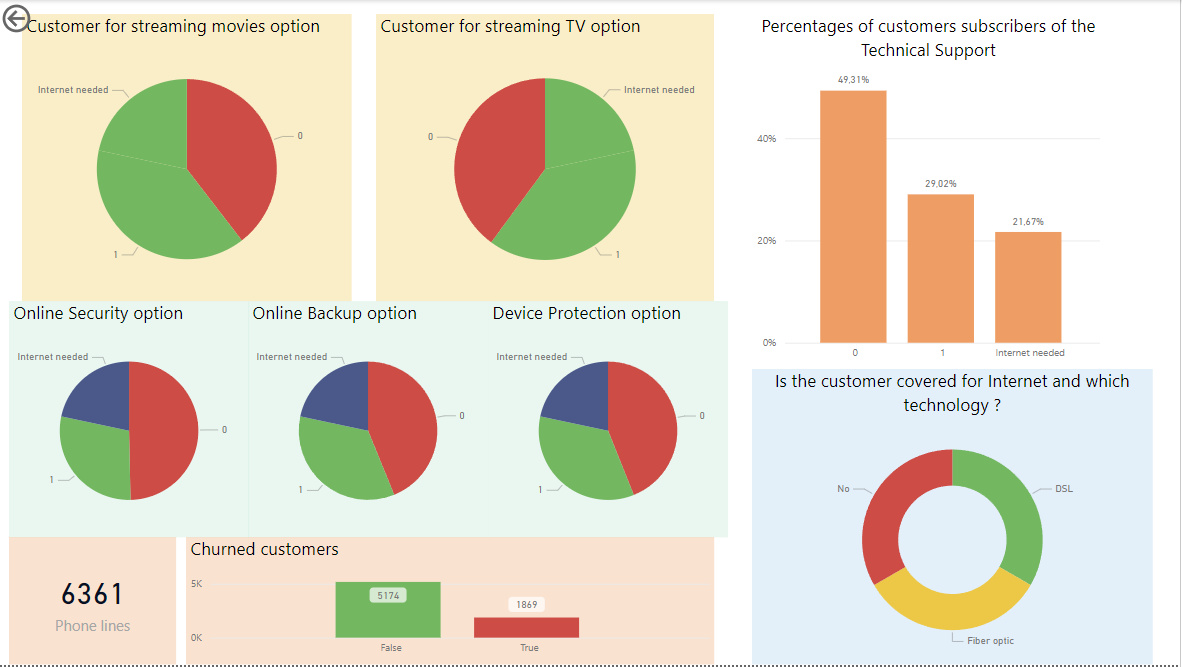

This screenshot's page, from the dashboard's own definition file:
{"tool":"powerbi","page":{"name":"Upsell","canvas":[1280,720],"ordinal":1},"visuals":[{"type":"pieChart","title":"Customer for streaming movies option","fields":{"Y":["THIERY-Customer-Churn-Telco.StreamingMovies"],"Category":["THIERY-Customer-Churn-Telco.StreamingMovies"]},"box":[25.8,15.1,357.3,311.1],"z":0},{"type":"pieChart","title":"Customer for streaming TV option","fields":{"Y":["THIERY-Customer-Churn-Telco.StreamingTV"],"Category":["THIERY-Customer-Churn-Telco.StreamingTV"]},"box":[409.8,15.1,366.2,311.1],"z":1000},{"type":"pieChart","title":"Online Security option","fields":{"Y":["THIERY-Customer-Churn-Telco.OnlineSecurity"],"Category":["THIERY-Customer-Churn-Telco.OnlineSecurity"]},"box":[11.6,326.2,259.6,256],"z":2000},{"type":"pieChart","title":"Online Backup option","fields":{"Y":["THIERY-Customer-Churn-Telco.OnlineBackup"],"Category":["THIERY-Customer-Churn-Telco.OnlineBackup"]},"box":[271.1,326.2,259.6,256],"z":3000},{"type":"pieChart","title":"Device Protection option","fields":{"Y":["THIERY-Customer-Churn-Telco.DeviceProtection"],"Category":["THIERY-Customer-Churn-Telco.DeviceProtection"]},"box":[530.7,326.2,259.6,256],"z":4000},{"type":"clusteredColumnChart","title":"Percentages of customers subscribers of the Technical Support","fields":{"Y":["Divide(CountNonNull(THIERY-Customer-Churn-Telco.TechSupport), ScopedEval(CountNonNull(THIERY-Customer-Churn-Telco.TechSu"],"Category":["THIERY-Customer-Churn-Telco.TechSupport"]},"box":[816.9,15.1,382.2,384.9],"z":5000},{"type":"donutChart","title":"Is the customer covered for Internet and which technology ?","fields":{"Y":["THIERY-Customer-Churn-Telco.Internet"],"Series":["THIERY-Customer-Churn-Telco.Internet"]},"box":[817,400,434,320],"z":6000},{"type":"card","fields":{"Values":["THIERY-Customer-Churn-Telco.Phone"]},"box":[12,582,181,138],"z":7000},{"type":"actionButton","box":[0,0,100,40],"z":8000},{"type":"lineStackedColumnComboChart","title":"Churned customers","fields":{"Category":["THIERY-Customer-Churn-Telco.Churn"],"Y":["THIERY-Customer-Churn-Telco.Churn"]},"box":[204,582,572,138],"z":9000}]}

Visuals, with their boxes on the page's 1280x720 design canvas (x1, y1, x2, y2). These are canvas units, not pixel positions in the 1182x667 screenshot, which may show the page scaled, cropped or inside an application window:
"Customer for streaming movies option" pieChart: [26, 15, 383, 326]
"Customer for streaming TV option" pieChart: [410, 15, 776, 326]
"Online Security option" pieChart: [12, 326, 271, 582]
"Online Backup option" pieChart: [271, 326, 531, 582]
"Device Protection option" pieChart: [531, 326, 790, 582]
"Percentages of customers subscribers of the Technical Support" clusteredColumnChart: [817, 15, 1199, 400]
"Is the customer covered for Internet and which technology ?" donutChart: [817, 400, 1251, 720]
card - THIERY-Customer-Churn-Telco.Phone: [12, 582, 193, 720]
actionButton: [0, 0, 100, 40]
"Churned customers" lineStackedColumnComboChart: [204, 582, 776, 720]
